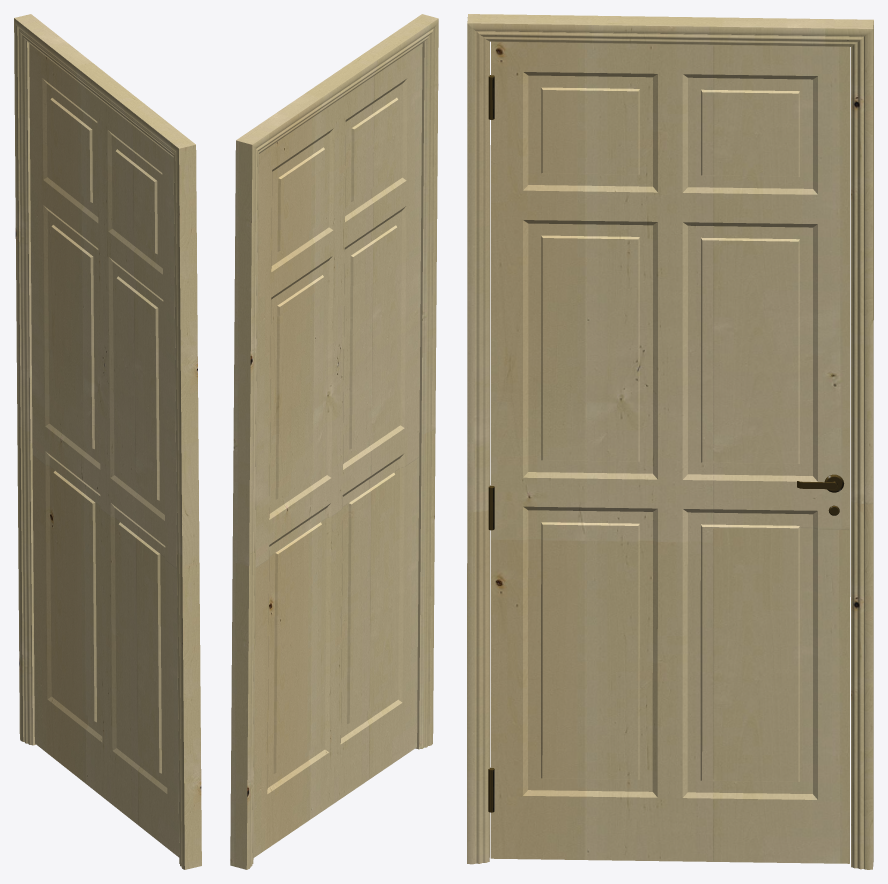
File: Door4.obj
3 views of the same model, side by side, from view 1: azimuth 30°, elevation 25°; view 2: azimuth 150°, elevation 25°; view 3: azimuth 270°, elevation 25° (orthographic). The views are drawn at different scales.
Visible parts, largest first — view 1: 10057_wooden_door_v1, 10057_wooden_door_frame_v1; view 2: 10057_wooden_door_v1, 10057_wooden_door_frame_v1; view 3: 10057_wooden_door_v1, 10057_wooden_door_frame_v1.
Boxes of the visible parts, left/top/right/bottom form: 10057_wooden_door_v1: left=29, top=43, right=179, bottom=857; 10057_wooden_door_frame_v1: left=14, top=14, right=201, bottom=869; 10057_wooden_door_v1: left=253, top=43, right=422, bottom=857; 10057_wooden_door_frame_v1: left=230, top=14, right=438, bottom=869; 10057_wooden_door_v1: left=488, top=41, right=850, bottom=863; 10057_wooden_door_frame_v1: left=467, top=14, right=873, bottom=869.
Bounding box in the file's own units: 10.19 × 207 × 91.13.
1 material, 1 textured.
